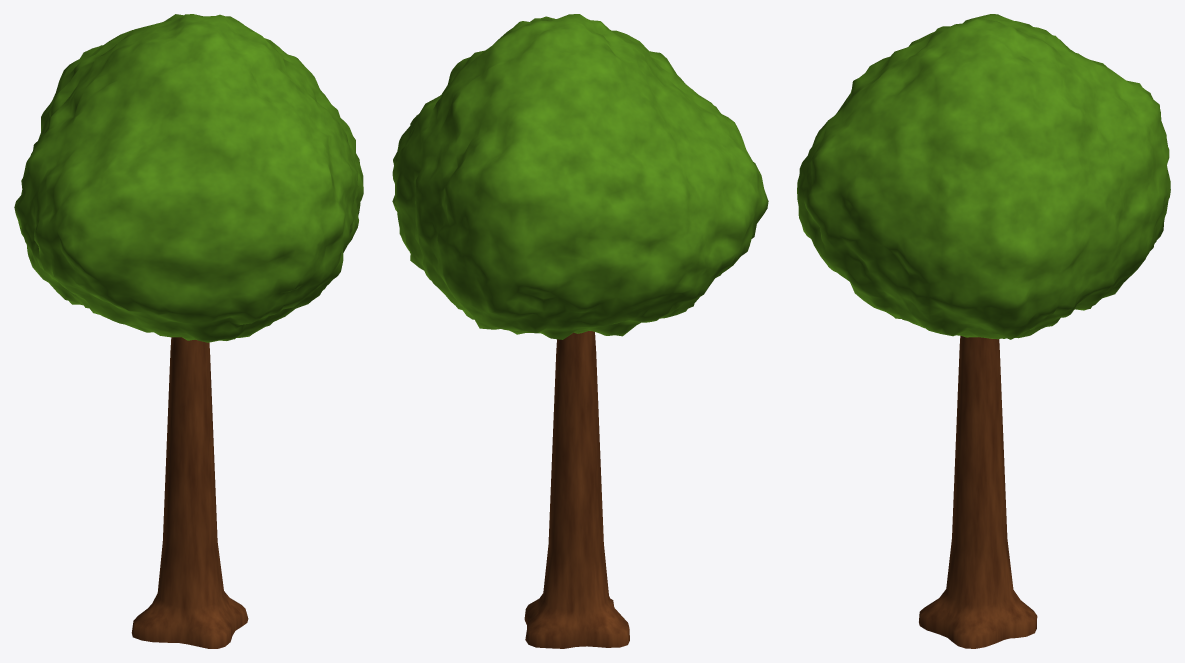
File: tree-2.glb
3 views of the same model, side by side, from view 1: azimuth 30°, elevation 25°; view 2: azimuth 150°, elevation 25°; view 3: azimuth 270°, elevation 25° (orthographic).
Visible parts, largest first — view 1: Leaf 2A, Tree 2; view 2: Leaf 2A, Tree 2; view 3: Leaf 2A, Tree 2.
Boxes of the visible parts, box(x1,y1,x2,y2) form: Leaf 2A: box(14, 14, 363, 342); Tree 2: box(131, 337, 248, 648); Leaf 2A: box(392, 14, 768, 339); Tree 2: box(524, 331, 629, 648); Leaf 2A: box(797, 14, 1170, 339); Tree 2: box(919, 336, 1037, 648).
Bounding box in the file's own units: 1.93 × 3.41 × 1.91.
Materials: 2 (2 with a texture image).
